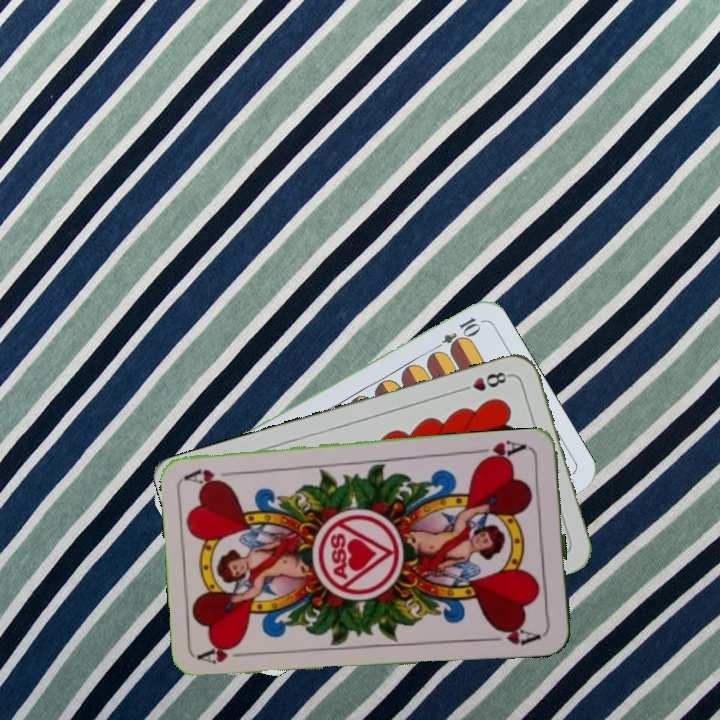E10: (428, 313, 483, 355)
H8: (455, 368, 513, 395)
HA: (473, 437, 533, 466), (196, 641, 255, 667)
